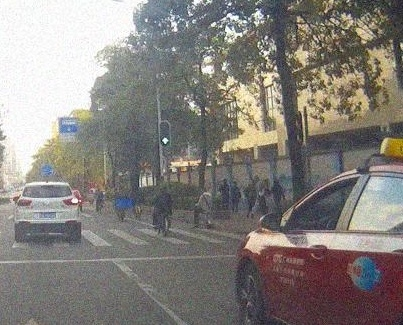L_light: (17, 199, 32, 206)
R_light: (63, 198, 80, 205)
T_light: (42, 186, 53, 188)
day-right: (15, 184, 82, 239)
